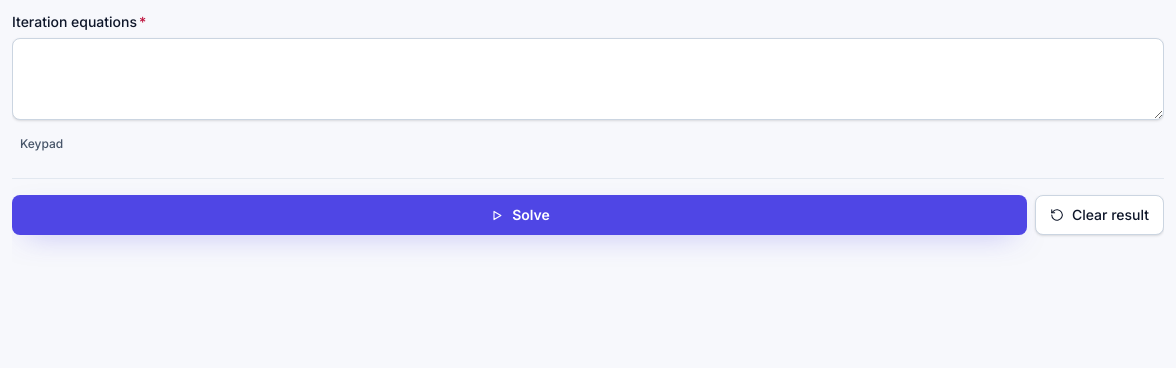
it: MethodForm variable wiring › passes the method variables to equation fields
Click the button "Keypad": (42, 144) [12,130,71,158]
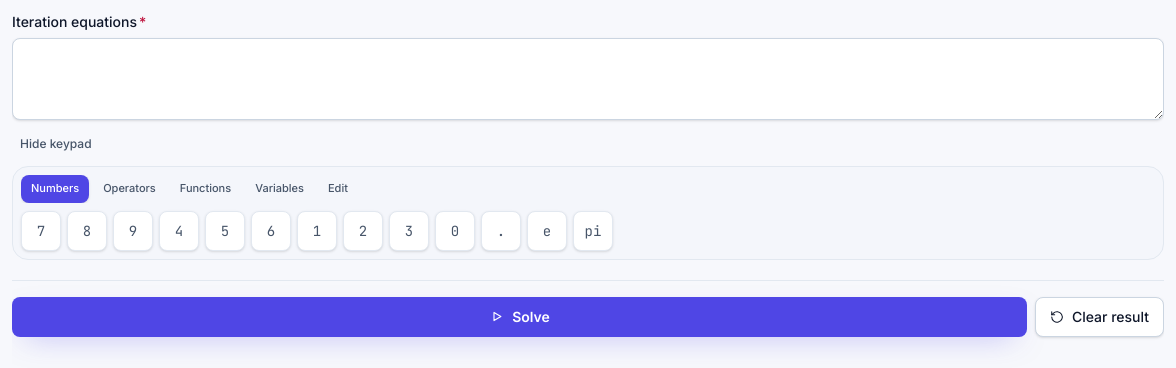
Click the tab "Variables": (280, 189) [245,175,314,203]
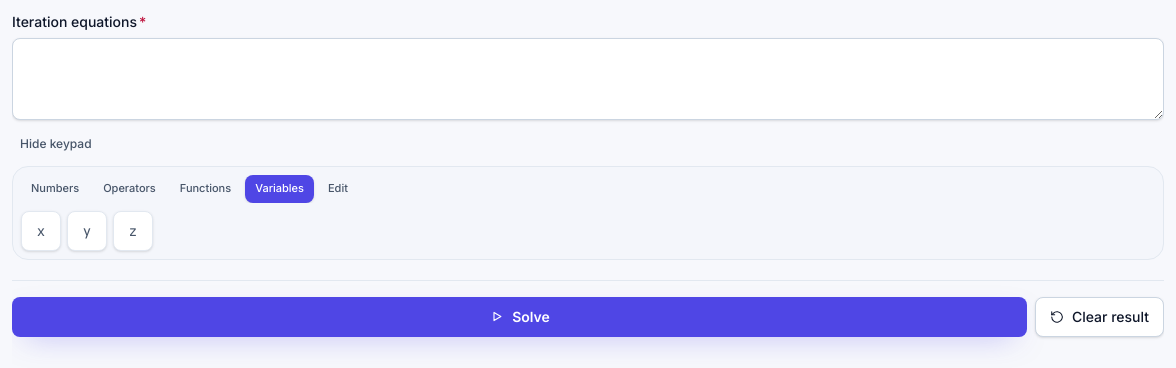
Check: the button named "Insert variable z" is shown, box [113,211,153,251]
